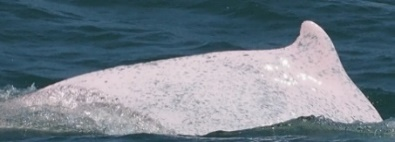fin: (16, 13, 387, 136)
